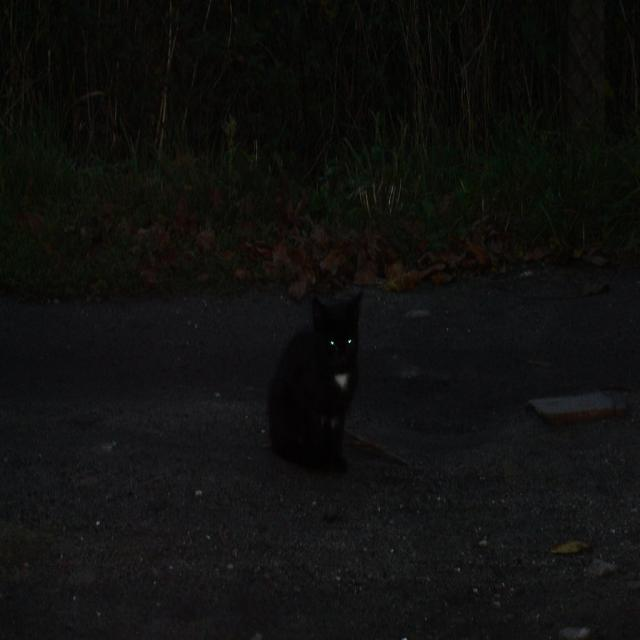Cat: (259, 284, 372, 494)
